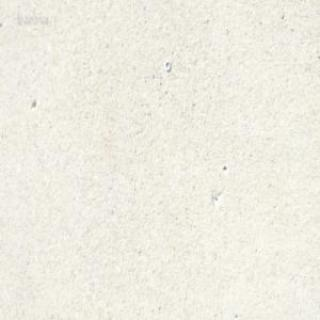Washertrack_idkeyframe: (163, 60, 170, 71)
